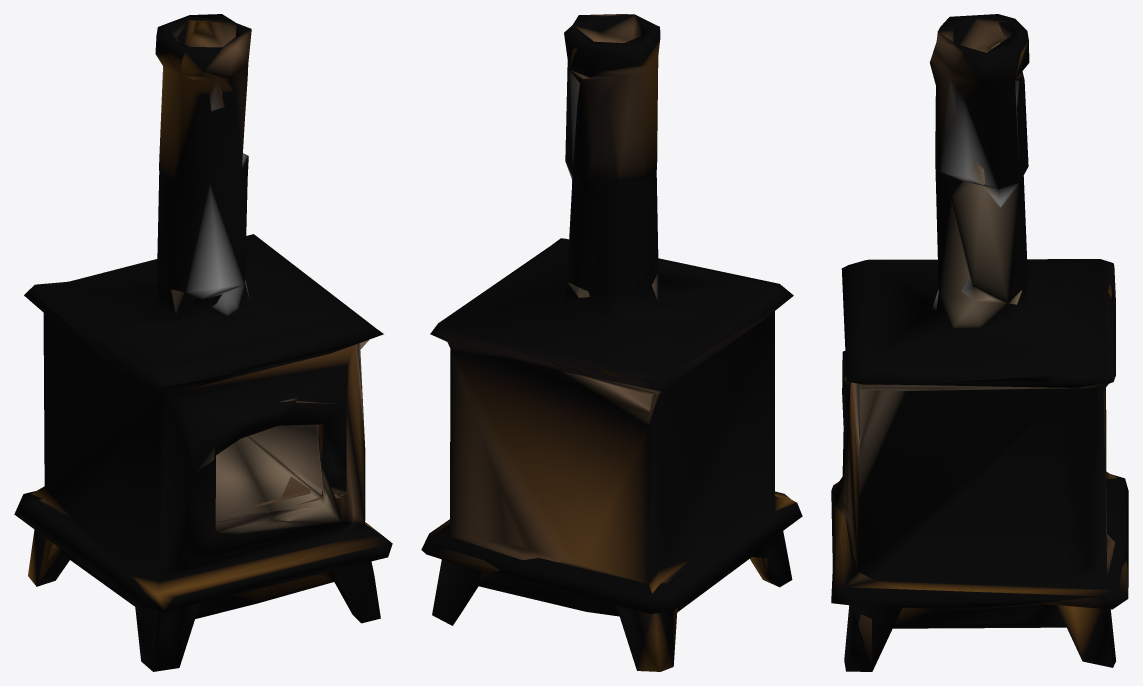
File: gen3d-wood-stove-lod1.glb
3 views of the same model, side by side, from view 1: azimuth 30°, elevation 25°; view 2: azimuth 150°, elevation 25°; view 3: azimuth 270°, elevation 25° (orthographic). The views are drawn at different scales.
Visible parts, largest first — view 1: part_0; view 2: part_0; view 3: part_0.
Boxes of the visible parts, left/top/right/bottom form: part_0: left=14, top=14, right=392, bottom=671; part_0: left=421, top=14, right=802, bottom=671; part_0: left=831, top=14, right=1128, bottom=671.
Size of the model in its own units: 0.4621 by 0.9995 by 0.4625.
